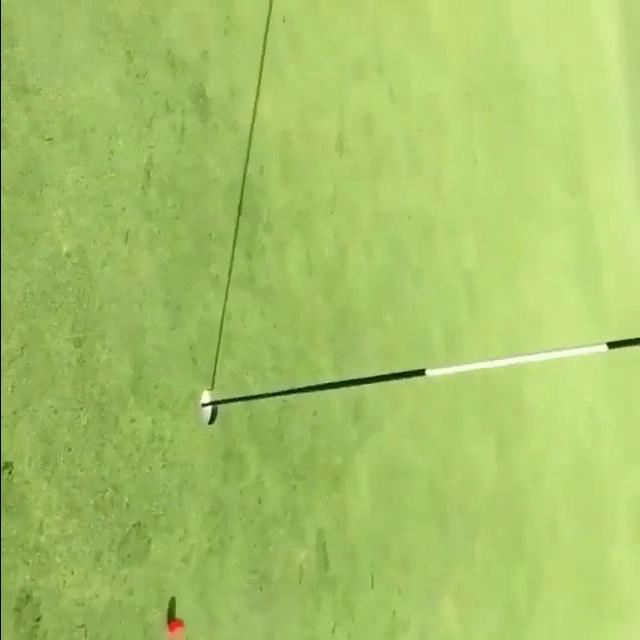GolfBall: (165, 617, 186, 640)
